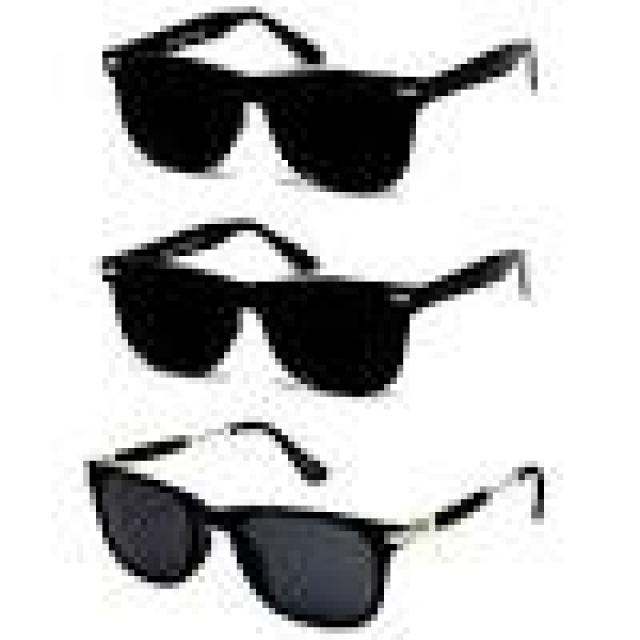sunglasses: (70, 22, 436, 630)
